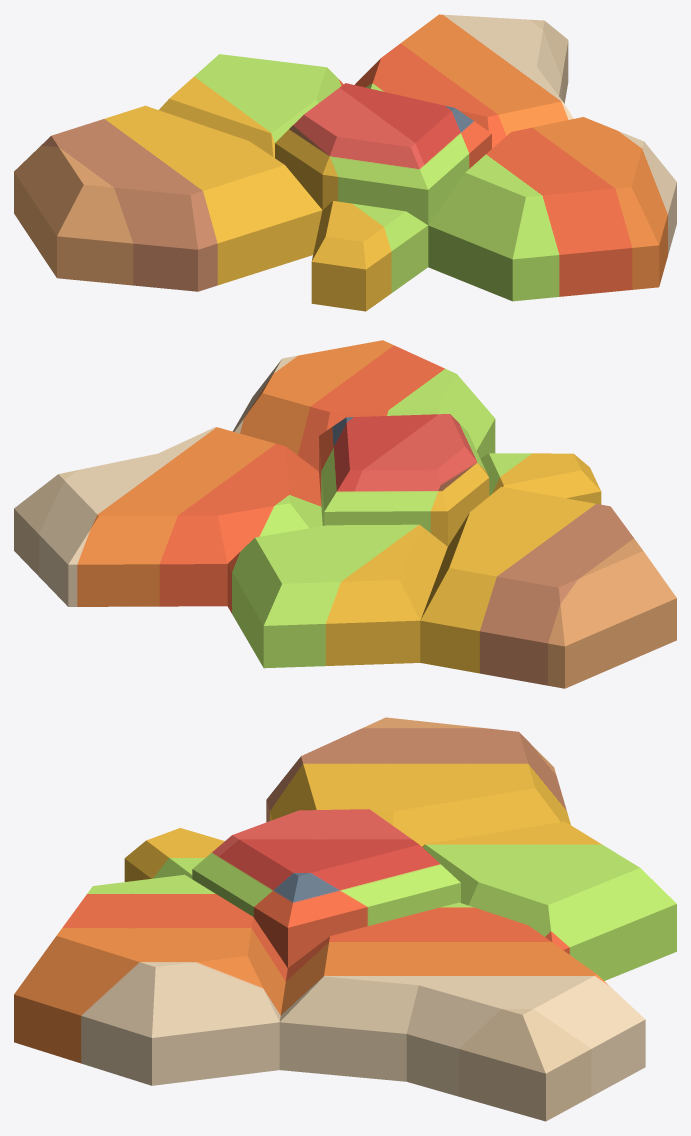
Rendered from rock_15.fbx.
3 renders of one model, top to bottom at view 1: azimuth 30°, elevation 25°; view 2: azimuth 150°, elevation 25°; view 3: azimuth 270°, elevation 25°, orthographic. The views are drawn at different scales.
Parts seen in each view (by area): view 1: rock_15; view 2: rock_15; view 3: rock_15.
Part boxes in pixels (x1,y1,x2,y2): rock_15: (14,14,676,311); rock_15: (14,340,676,688); rock_15: (14,717,676,1121).
Bounding box in the file's own units: 303 × 53 × 261.
